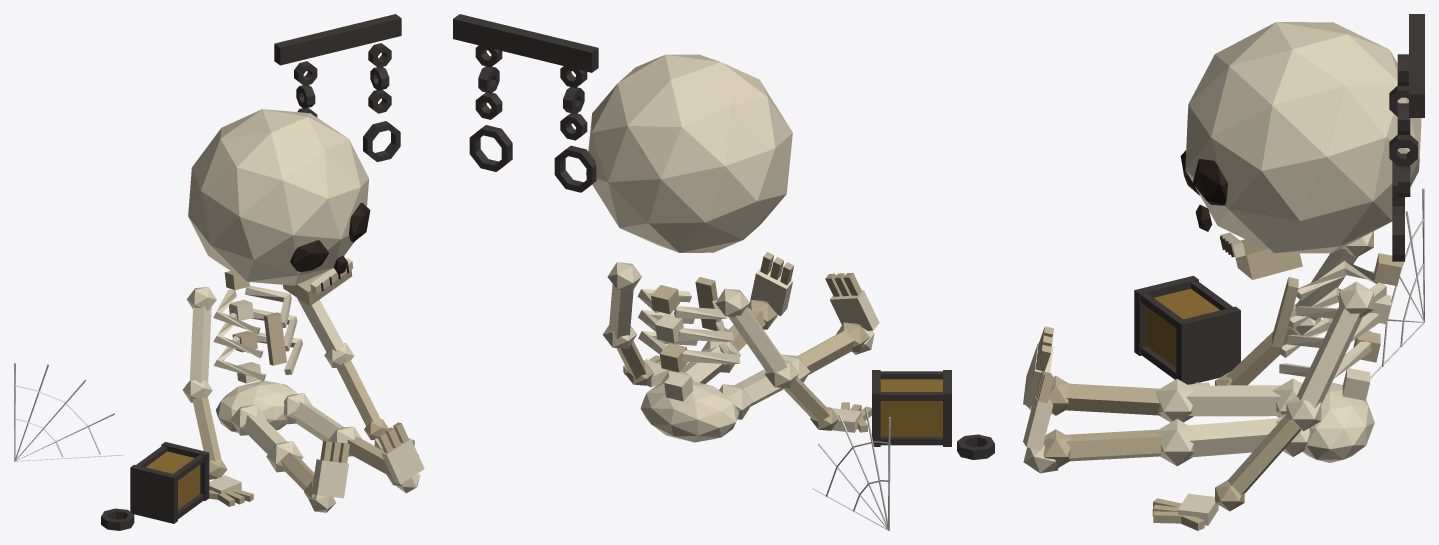
File: prop-cave-skeleton.glb
3 renders of one model, left to right at view 1: azimuth 30°, elevation 25°; view 2: azimuth 150°, elevation 25°; view 3: azimuth 270°, elevation 25°, orthographic. The views are drawn at different scales.
Visible parts, largest first — view 1: CaveSkeleton; view 2: CaveSkeleton; view 3: CaveSkeleton.
Boxes of the visible parts, x1,y1,x2,y2 form: CaveSkeleton: (14,14,424,530); CaveSkeleton: (453,14,994,530); CaveSkeleton: (1023,14,1424,530).
Size of the model in its own units: 1.13 by 1 by 0.7624.
